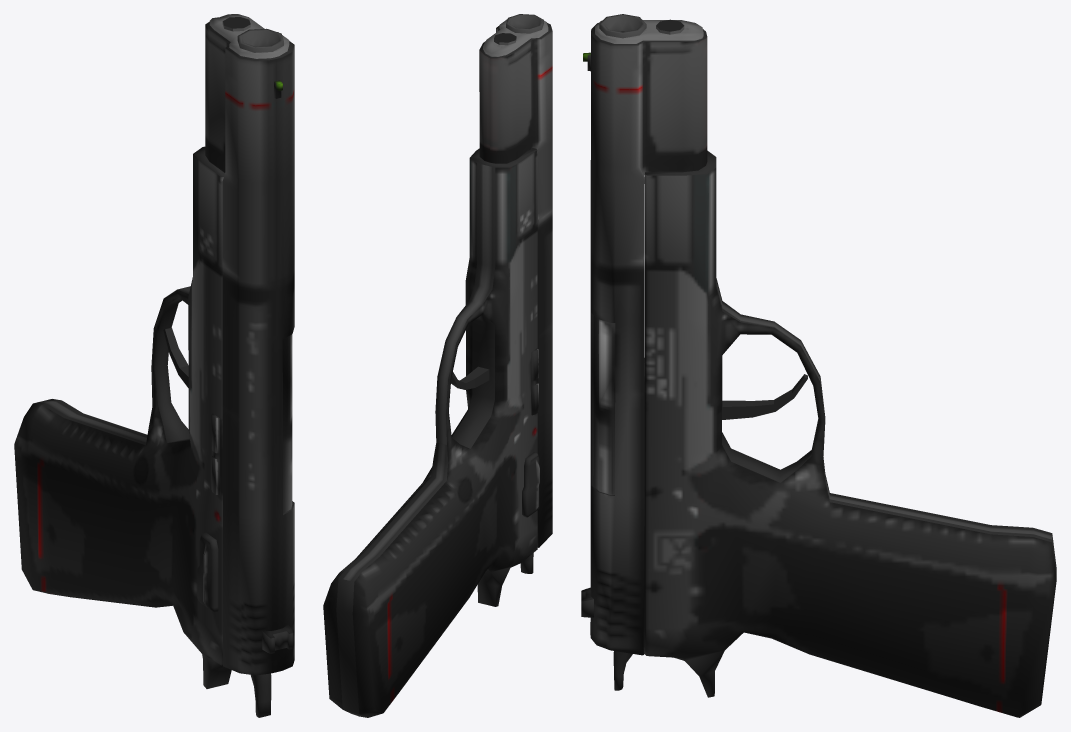
Rendered from Type-75.fbx.
3 renders of one model, left to right at view 1: azimuth 30°, elevation 25°; view 2: azimuth 150°, elevation 25°; view 3: azimuth 270°, elevation 25°, orthographic. The views are drawn at different scales.
Visible parts, largest first — view 1: Cube; view 2: Cube; view 3: Cube.
Part boxes in pixels (bbox=[...]): Cube: bbox=[14, 14, 294, 717]; Cube: bbox=[323, 14, 552, 717]; Cube: bbox=[581, 14, 1056, 717].
Bounding box in the file's own units: 0.0167 × 0.1729 × 0.1081.
